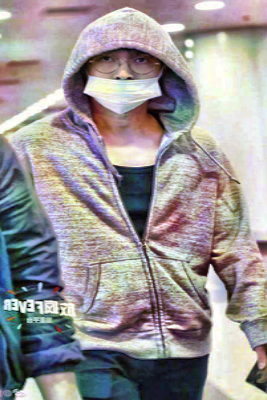mask_weared_incorrect: (82, 50, 166, 114)
